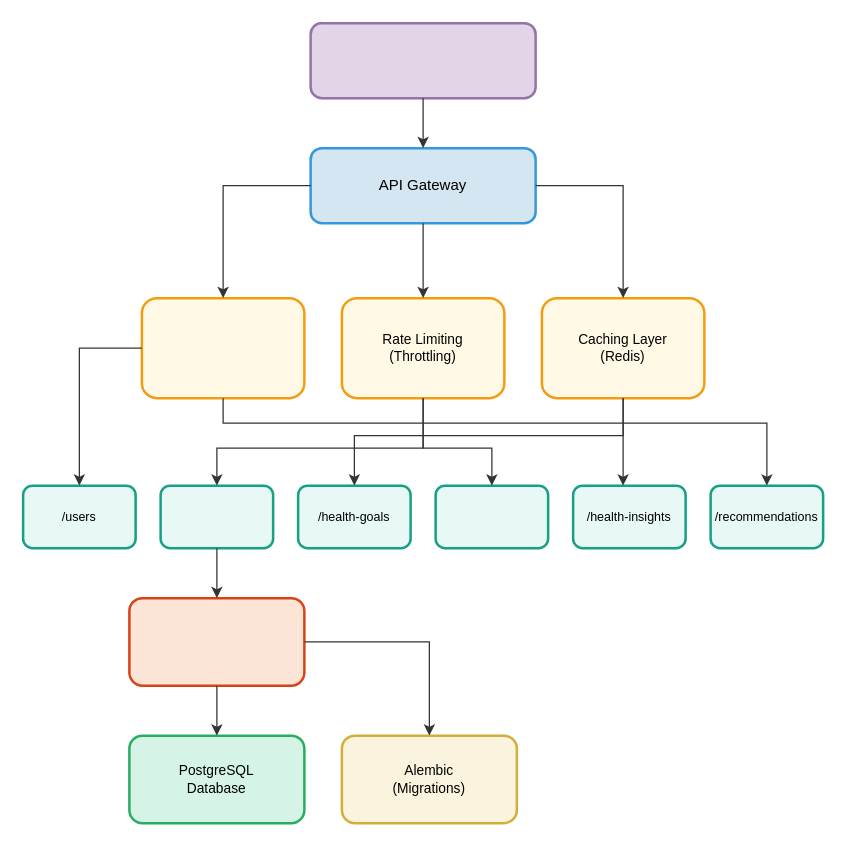
Some shapes in this 845 by 845 pixel diagram are drawn without their labels. The shapes that lost their labels are listed below. From the top down, each one's centre as x and y in pixels, then its label:
At (x=422, y=60): "Client Applications".
At (x=222, y=347): "Authentication (Security Module)".
At (x=216, y=516): "/health-metrics".
At (x=491, y=516): "/nutrition-logs".
At (x=216, y=641): "Insights Engine (Analytics)".
